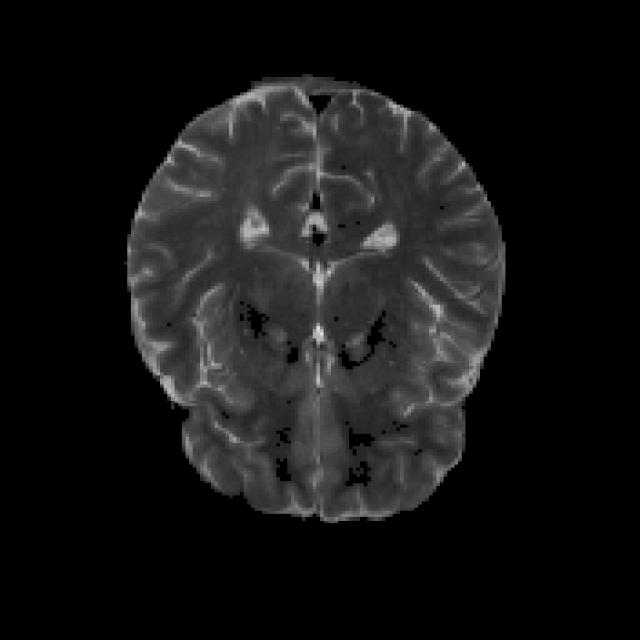parkinson: (123, 71, 506, 523)
